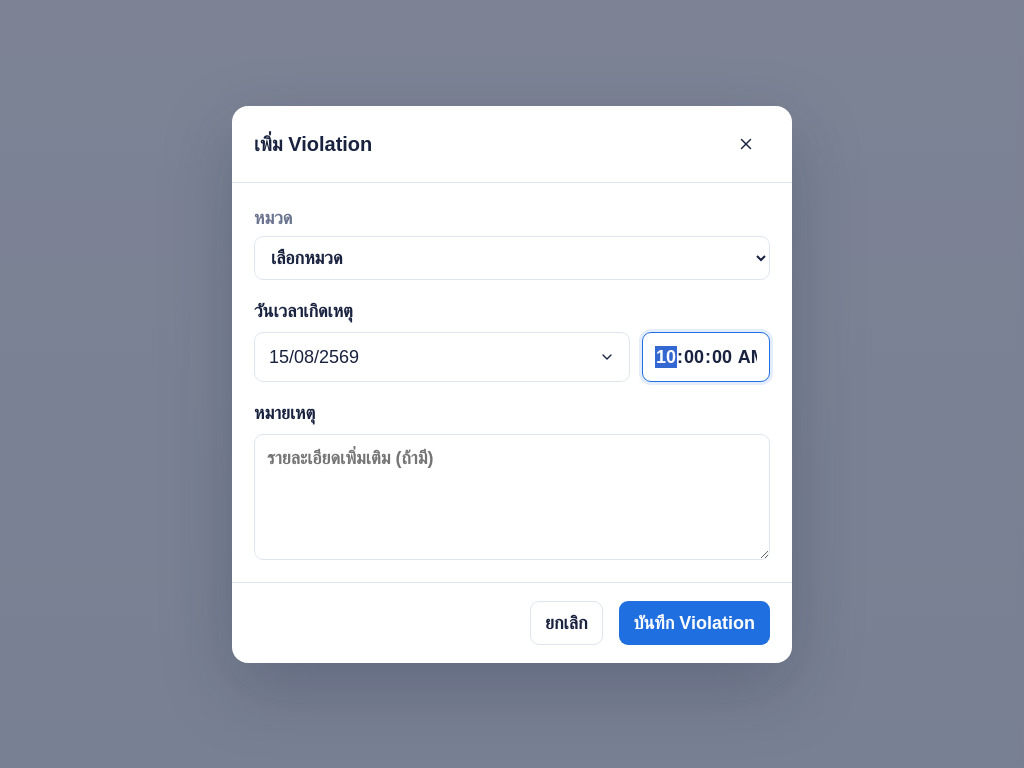
CreateViolationModal › keeps the modal open and shows a backend domain error
Select "จอดรถผิดระเบียบ" in the dropdown labelled "หมวด": [512, 258] box [254,236,770,280]
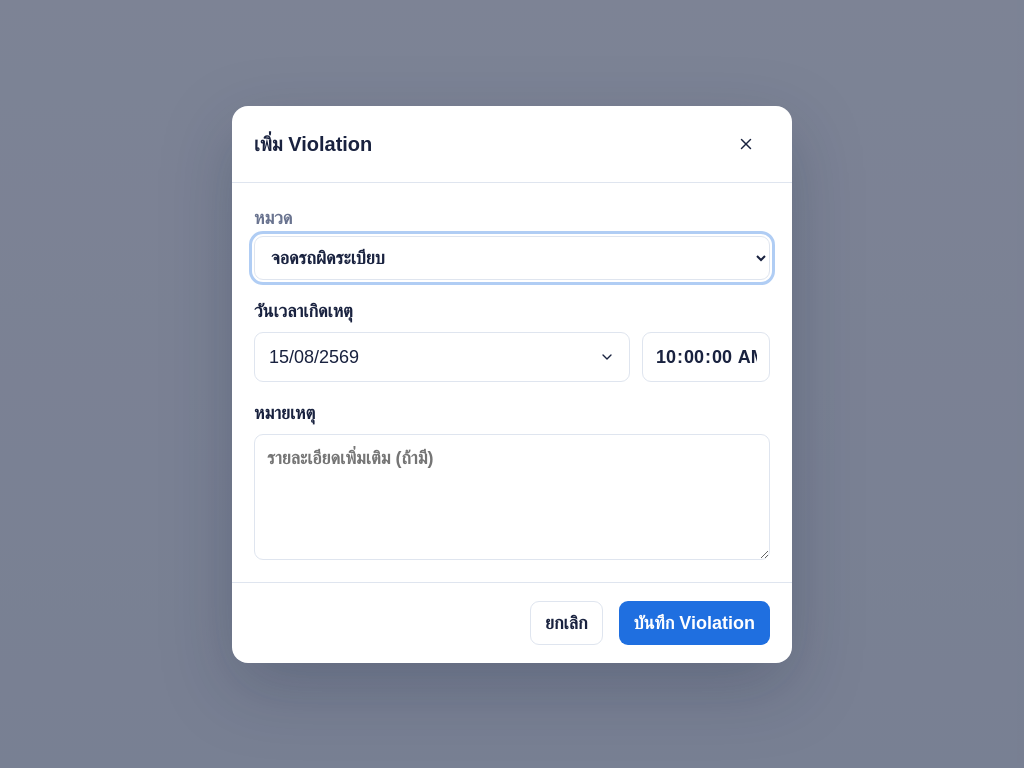
Click the button "บันทึก Violation": [694, 622] box [618,600,770,644]
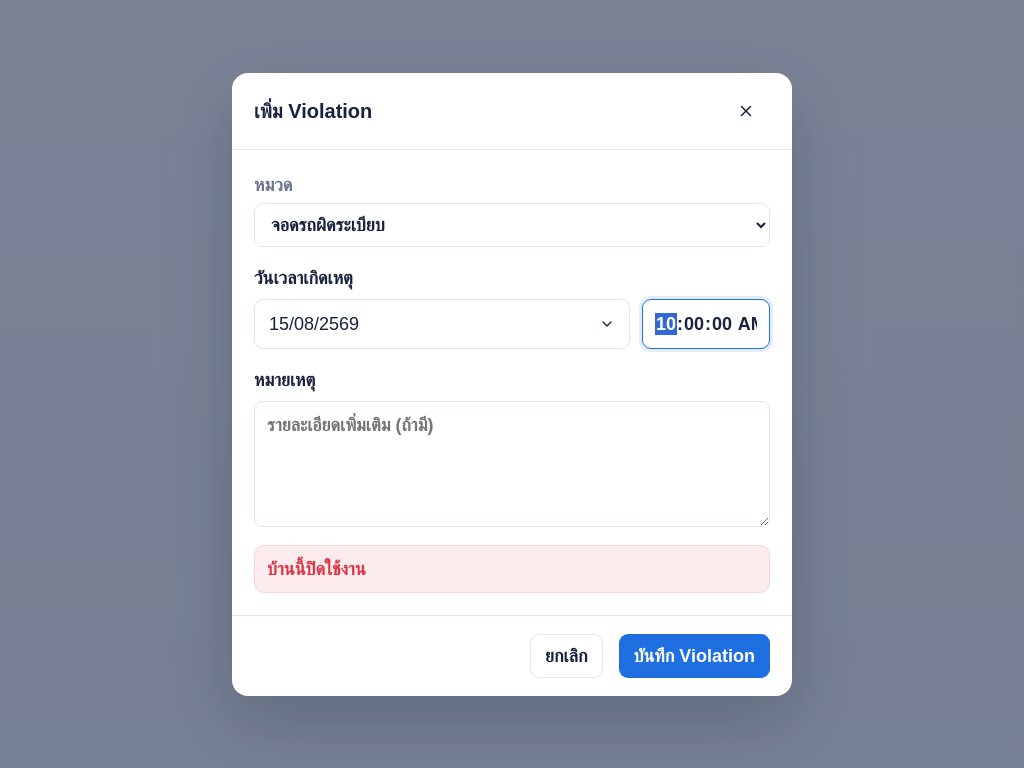
Check: the dialog is shown, box [232,72,792,696]
Check: the text "บ้านนี้ปิดใช้งาน" is shown, box [254,544,770,592]
